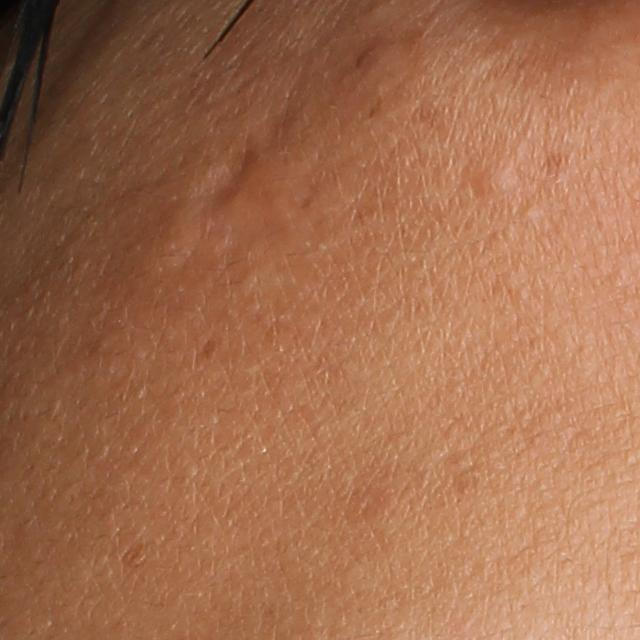atrophic_scar: (189, 140, 273, 224)
comedo: (469, 162, 519, 203), (518, 200, 538, 221)
